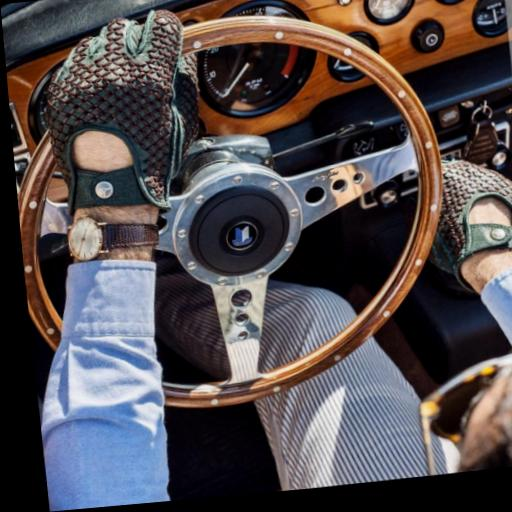Hands-on-the-Wheel: (14, 0, 261, 284)
